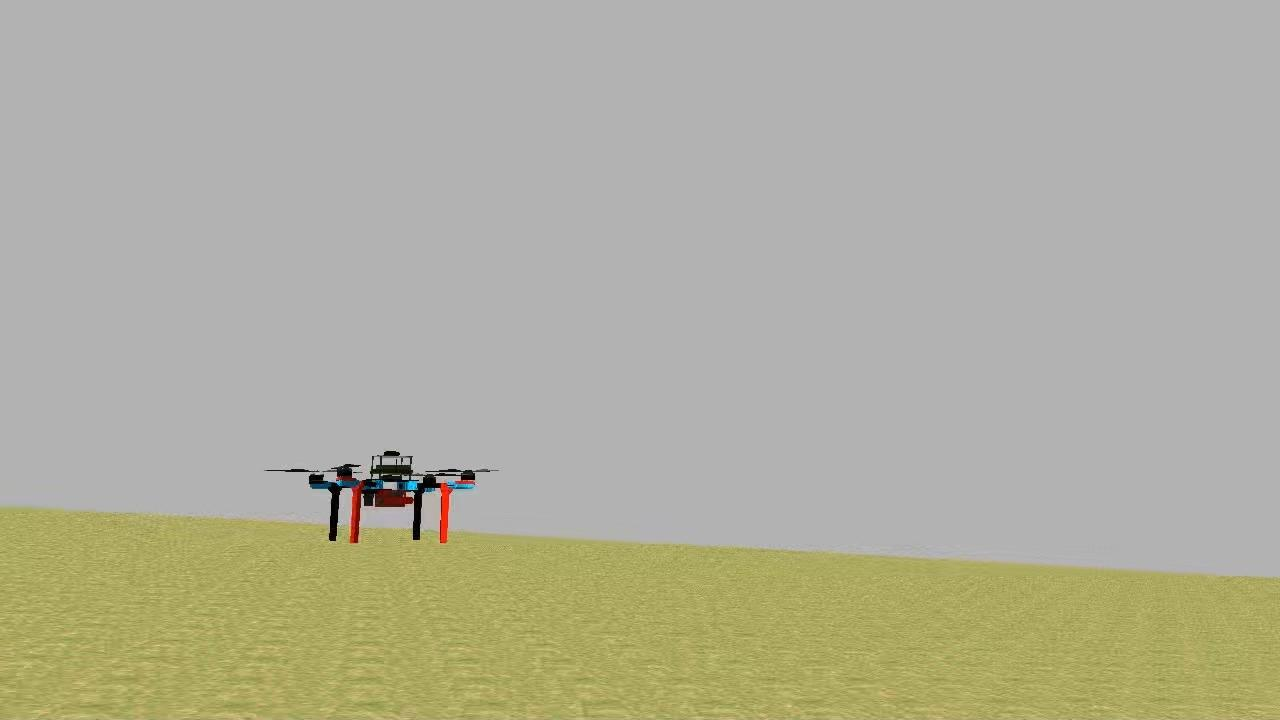UAV: (304, 446, 483, 550)
